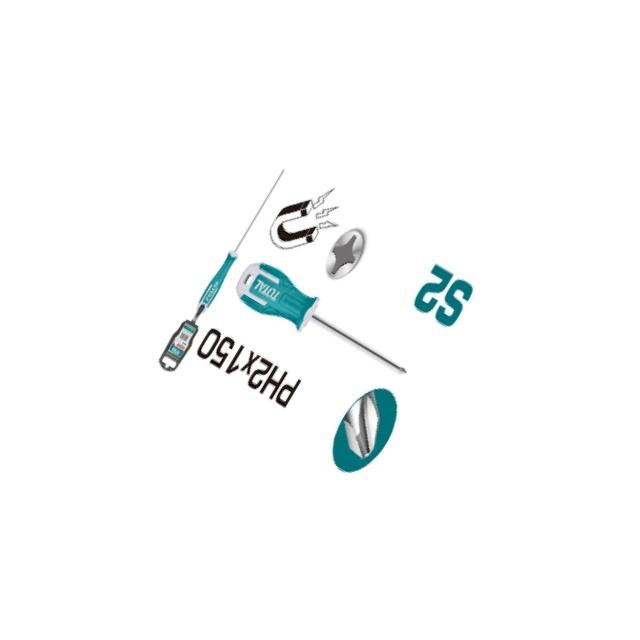screwdriver: (228, 250, 421, 395), (192, 164, 292, 316)
